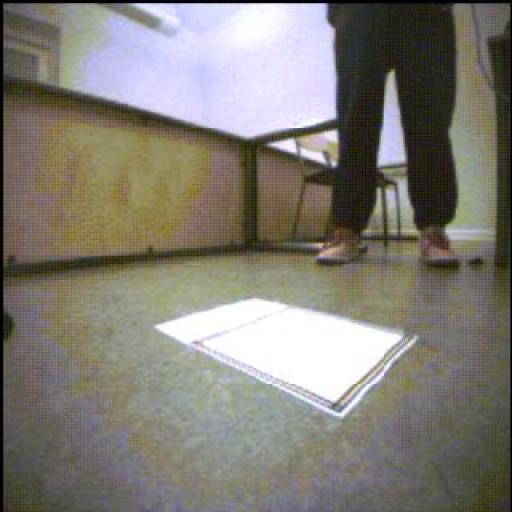Pad: (156, 299, 417, 419)
